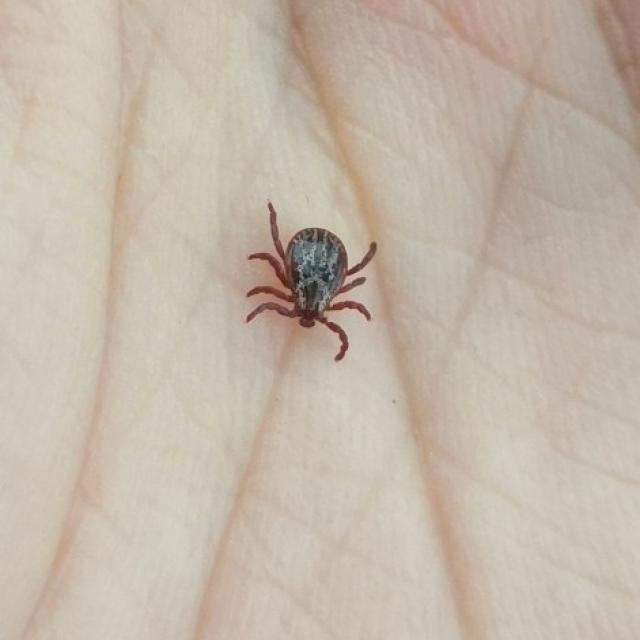Dermacentor Reticulatus-M: (245, 208, 375, 363)
